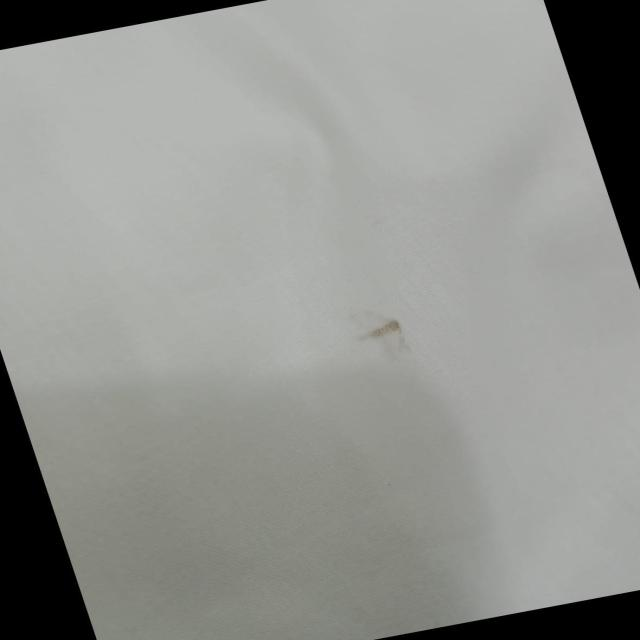stain: (332, 291, 446, 385)
